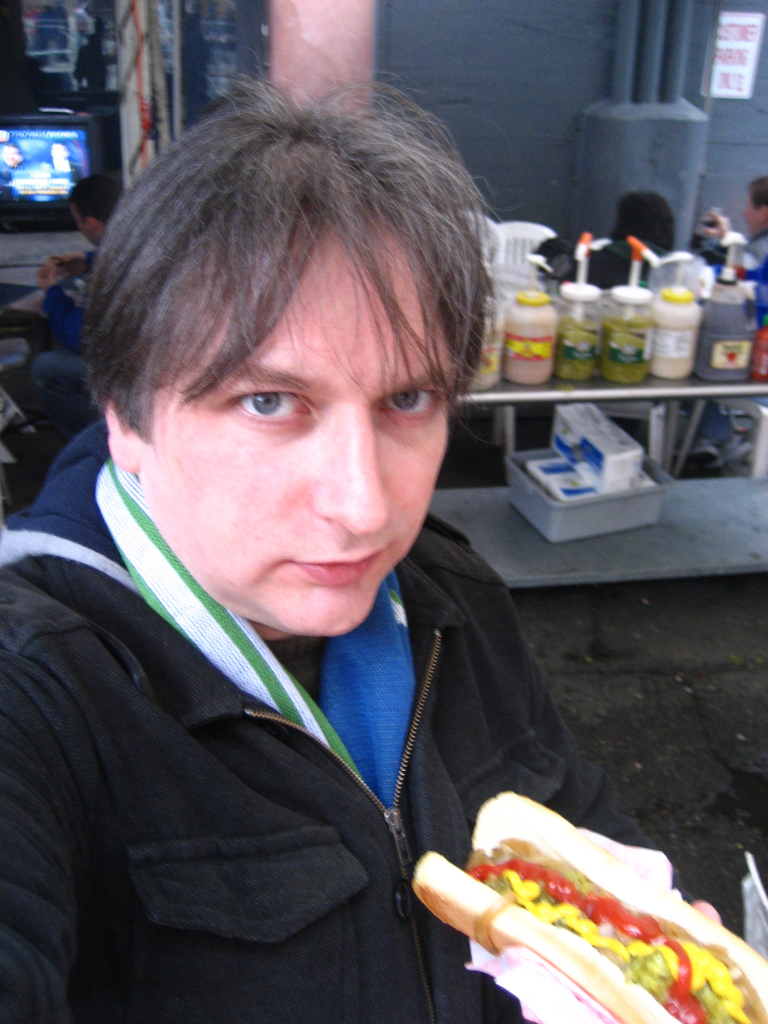hot_dog: (406, 786, 767, 1023)
